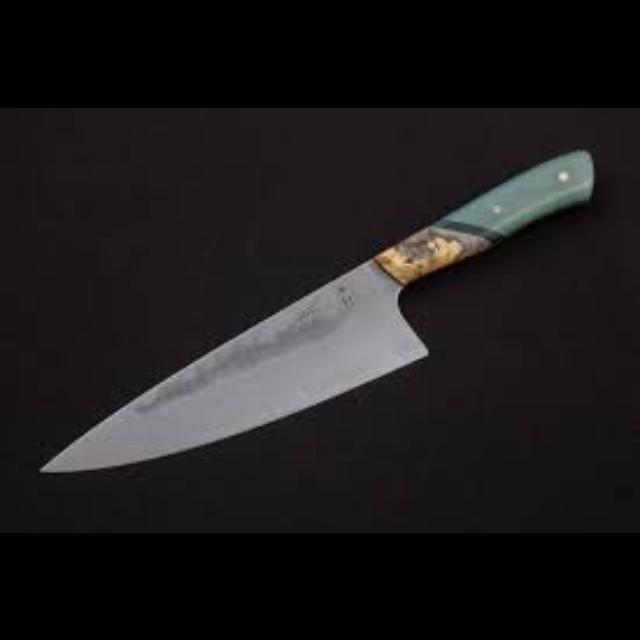Knife: (37, 144, 593, 472)
